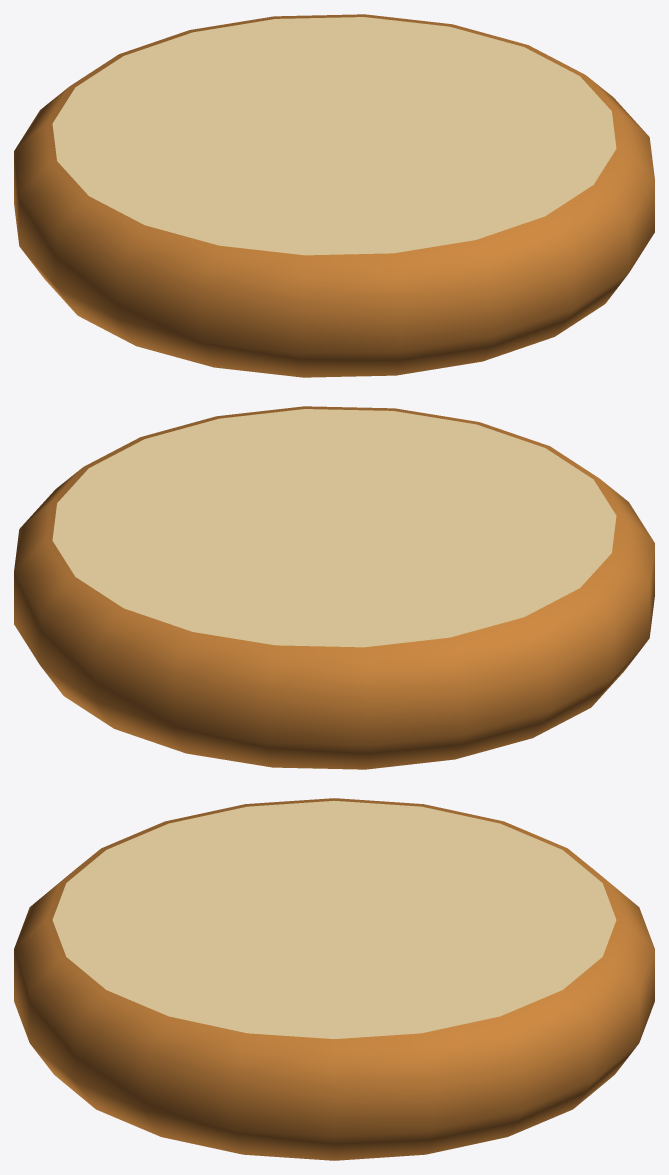
The model's file is bun-bottom.glb.
3 renders of one model, top to bottom at view 1: azimuth 30°, elevation 25°; view 2: azimuth 150°, elevation 25°; view 3: azimuth 270°, elevation 25°, orthographic.
Visible parts, largest first — view 1: bun-bottom-crumb, bun-bottom; view 2: bun-bottom-crumb, bun-bottom; view 3: bun-bottom-crumb, bun-bottom.
Boxes of the visible parts, left/top/right/bottom form: bun-bottom-crumb: left=52, top=17, right=616, bottom=255; bun-bottom: left=14, top=14, right=654, bottom=377; bun-bottom-crumb: left=52, top=409, right=616, bottom=647; bun-bottom: left=14, top=406, right=654, bottom=769; bun-bottom-crumb: left=52, top=800, right=616, bottom=1038; bun-bottom: left=14, top=798, right=654, bottom=1160.
Bounding box in the file's own units: 10 × 2 × 10.
